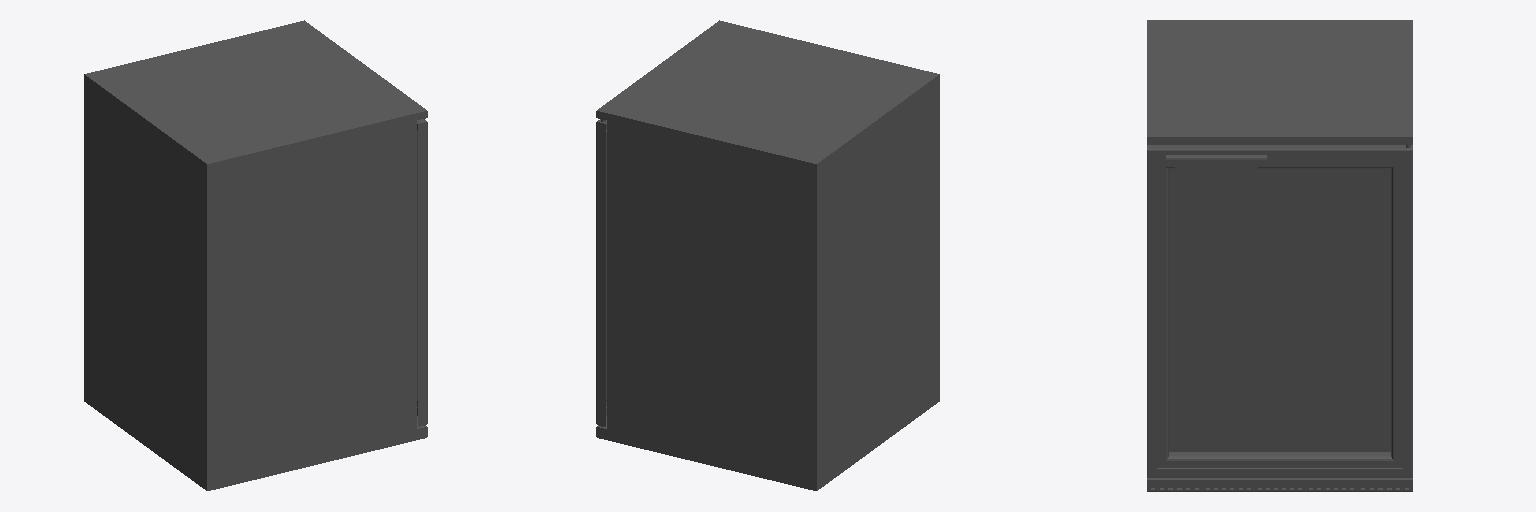
URDF robot description (fridge):
<?xml version="1.0" ?>
<robot name = "fridge">
  <material name="Black">
    <color rgba="0.0 0.0 0.0 1.0"/>
  </material>
  <material name="Blue">
    <color rgba="0.0 0.0 0.8 1.0"/>
  </material>
  <material name="Green">
    <color rgba="0.0 0.8 0.0 1.0"/>
  </material>
  <material name="Grey">
    <color rgba="0.4 0.4 0.4 1.0"/>
  </material>
  <material name="Orange">
    <color rgba="1.0 0.423529411765 0.0392156862745 1.0"/>
  </material>
  <material name="Brown">
    <color rgba="0.870588235294 0.811764705882 0.764705882353 1.0"/>
  </material>
  <material name="Red">
    <color rgba="0.8 0.0 0.0 1.0"/>
  </material>
  <material name="White">
    <color rgba="1.0 1.0 1.0 1.0"/>
  </material>
	<link name = "fridge">
	<visual>
		<origin rpy="1.57079 0 1.57079" xyz="0.2 0.2 0"/>
		<geometry>
		<mesh filename="../meshes/Fridge.obj"/>
		</geometry>
		<material name="Grey"/>
	</visual>
	<collision>
		<origin rpy="0 0 0" xyz="0 0 0"/>
		<geometry>
		<cylinder length="0.06" radius="0.10"/>
		</geometry>
	</collision>
	</link>
</robot>

--- Facts derived from the render (not from the file) ---
The picture shows the robot from 3 angles, left to right: view 1: azimuth 30°, elevation 25°; view 2: azimuth 150°, elevation 25°; view 3: azimuth 270°, elevation 25°; orthographic projection.
Model fridge with 1 links and 0 joints (none), rooted at fridge, posed every joint at zero.
Links seen in each view (by area): view 1: fridge; view 2: fridge; view 3: fridge.
Link boxes in pixels (x1,y1,x2,y2): fridge: [84, 20, 427, 490]; fridge: [596, 20, 939, 490]; fridge: [1147, 20, 1412, 491].
Bounding box of the posed robot: 0.3822 × 0.36 × 0.528 m (x, y, z).
Meshes: 1 distinct files referenced, 1 mesh visuals loaded (1 OBJ).
